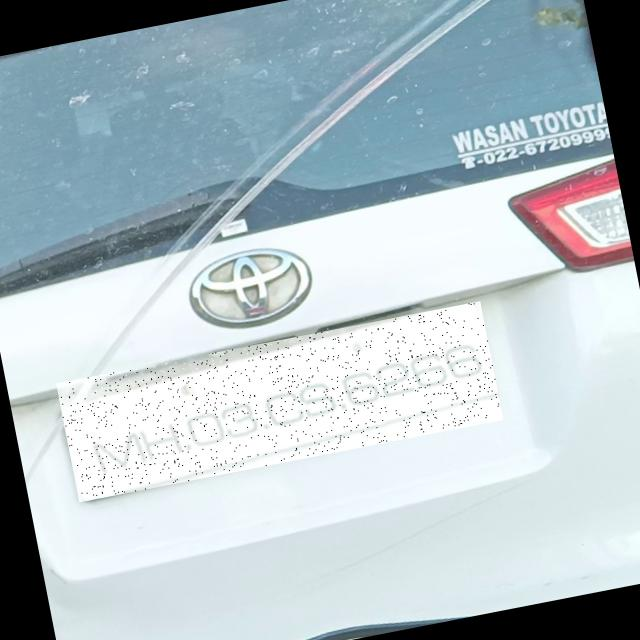Plate: (58, 302, 505, 503)
